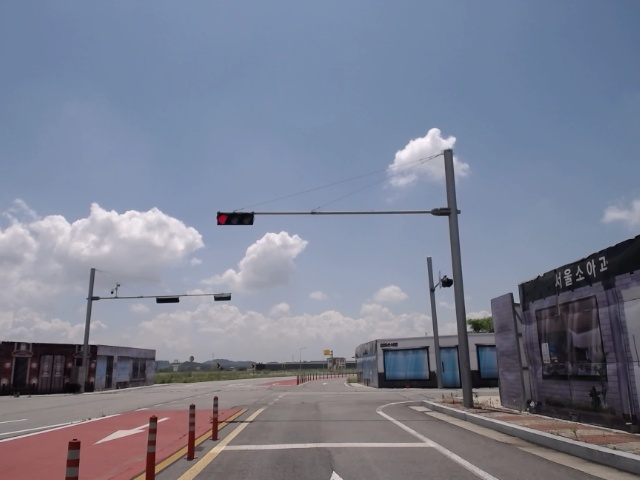red_3: (217, 211, 255, 226)
